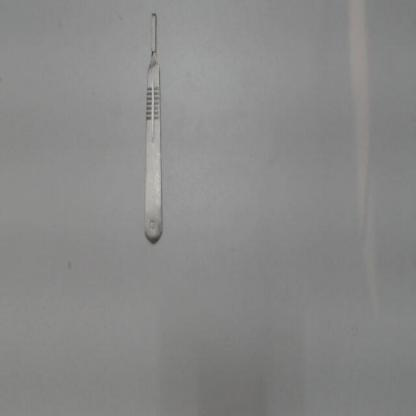No.4 BP Handle: (138, 6, 166, 249)
